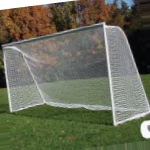goals: (1, 21, 150, 124)
